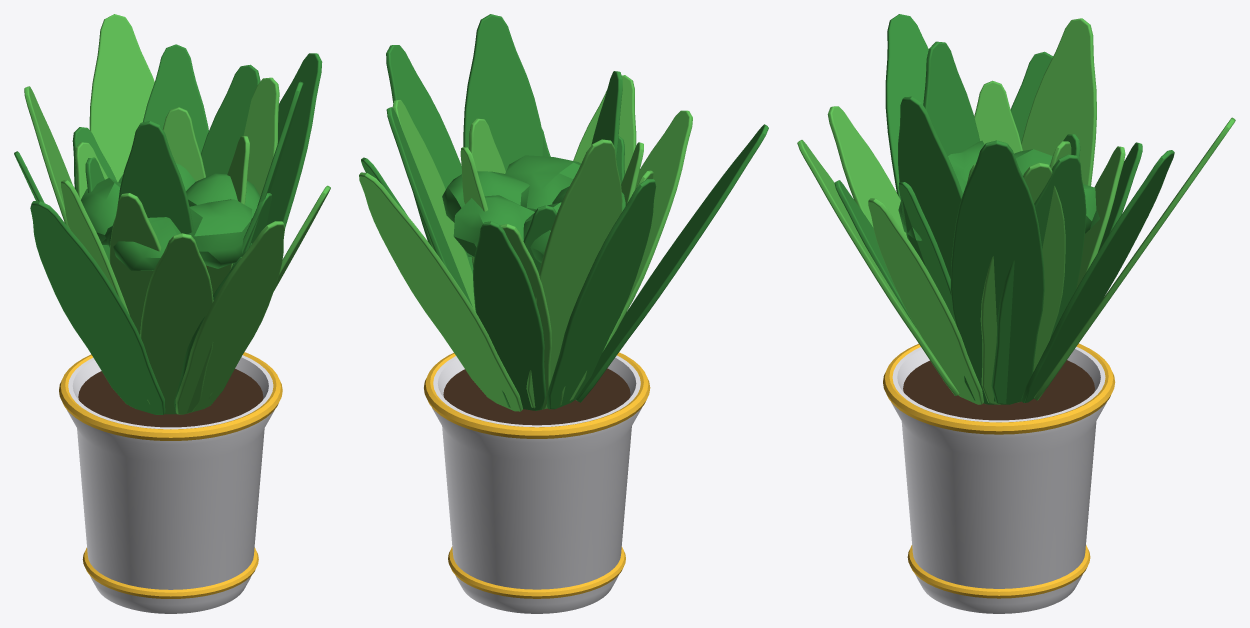
Rendered from PropPottedPlant.fbx.
The picture shows the model from 3 angles, left to right: view 1: azimuth 30°, elevation 25°; view 2: azimuth 150°, elevation 25°; view 3: azimuth 270°, elevation 25°; orthographic projection. The views are drawn at different scales.
Parts seen in each view (by area): view 1: DarkLeaf, Leaf, Marble, Gold, Soil; view 2: DarkLeaf, Leaf, Marble, Gold, Soil; view 3: DarkLeaf, Leaf, Marble, Gold, Soil.
Part boxes in pixels (x1,y1,x2,y2): DarkLeaf: (14,44,322,414); Leaf: (24,14,330,414); Marble: (67,355,274,613); Gold: (59,352,282,598); Soil: (78,369,263,427); DarkLeaf: (361,14,768,410); Leaf: (359,75,692,411); Marble: (432,355,641,613); Gold: (424,352,650,598); Soil: (443,368,630,425); DarkLeaf: (834,14,1174,404); Leaf: (797,18,1235,404); Marble: (891,346,1106,613); Gold: (883,343,1115,598); Soil: (903,360,1094,420).
Size of the model in its own units: 302 by 446 by 336.
